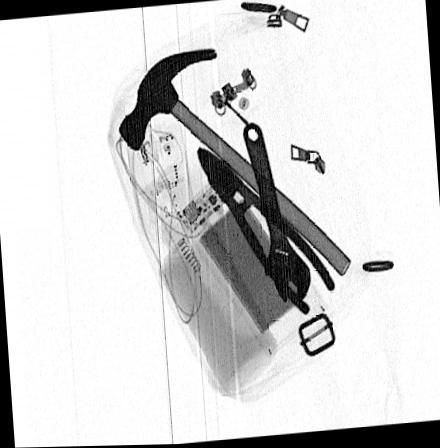Hammer: (118, 46, 350, 277)
Pliers: (196, 143, 338, 319)
Powerbank: (179, 158, 332, 360)
Wrench: (243, 122, 310, 304)
